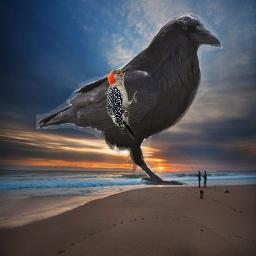Crow: (36, 13, 223, 185)
Woodpecker: (104, 64, 137, 144)
